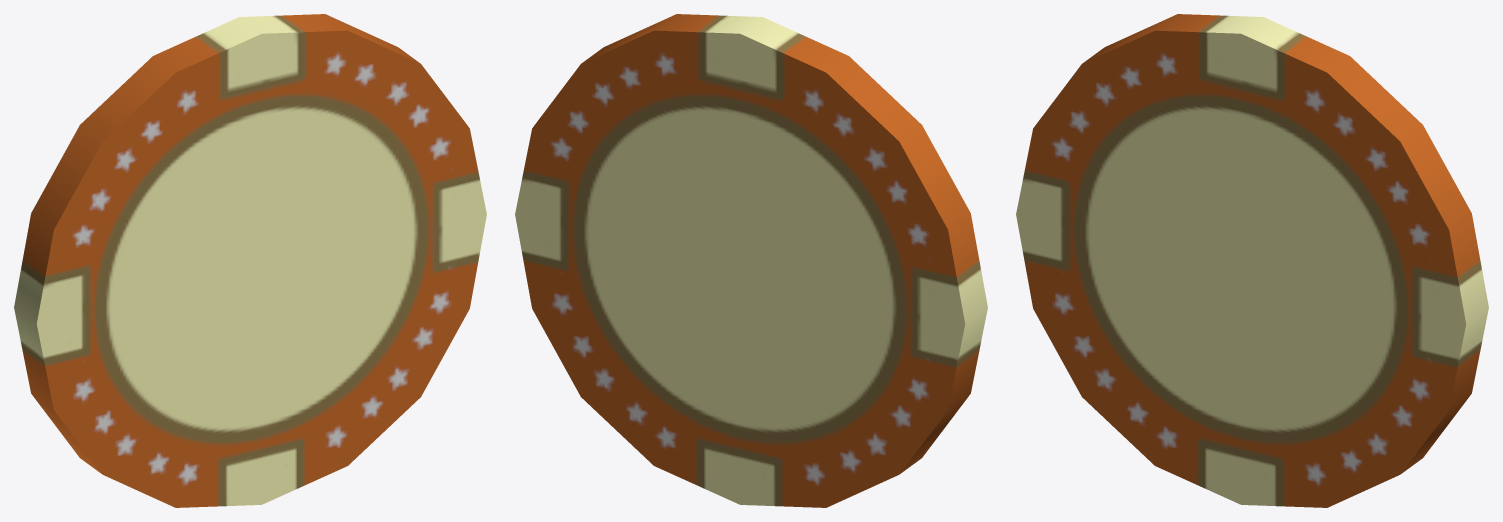
Rendered from pokerChip0.fbx.
The picture shows the model from 3 angles, left to right: view 1: azimuth 30°, elevation 25°; view 2: azimuth 150°, elevation 25°; view 3: azimuth 330°, elevation 25°; orthographic projection.
Parts seen in each view (by area): view 1: pokerChip0; view 2: pokerChip0; view 3: pokerChip0.
Part boxes in pixels (x1,y1,x2,y2): pokerChip0: [14, 14, 486, 507]; pokerChip0: [515, 14, 987, 507]; pokerChip0: [1016, 14, 1488, 507].
Size of the model in its own units: 4 by 4 by 0.35.
Materials: 1 (1 with a texture image).
